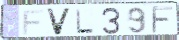3: (100, 6, 122, 36)
9: (126, 6, 148, 35)
F: (151, 5, 175, 34), (22, 9, 45, 36)
L: (75, 8, 96, 35)
V: (45, 7, 73, 37)
